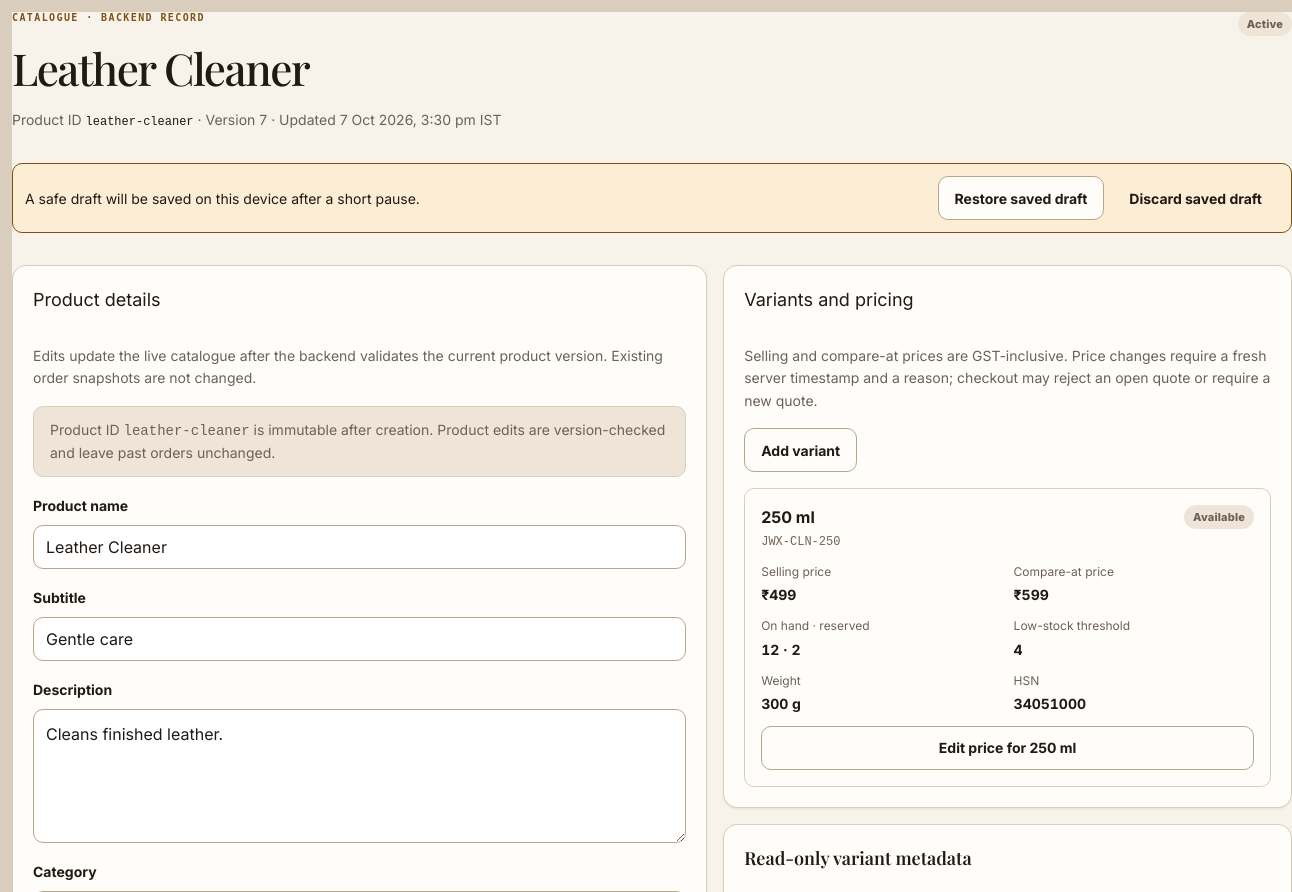
Scenario: ProductEditor › does not expose a price write until the authoritative variant timestamp is available
The width and height of the screenshot is (1292, 892).
Click the button "Edit price for 250 ml" at (1008, 748), box left=761, top=726, right=1254, bottom=770
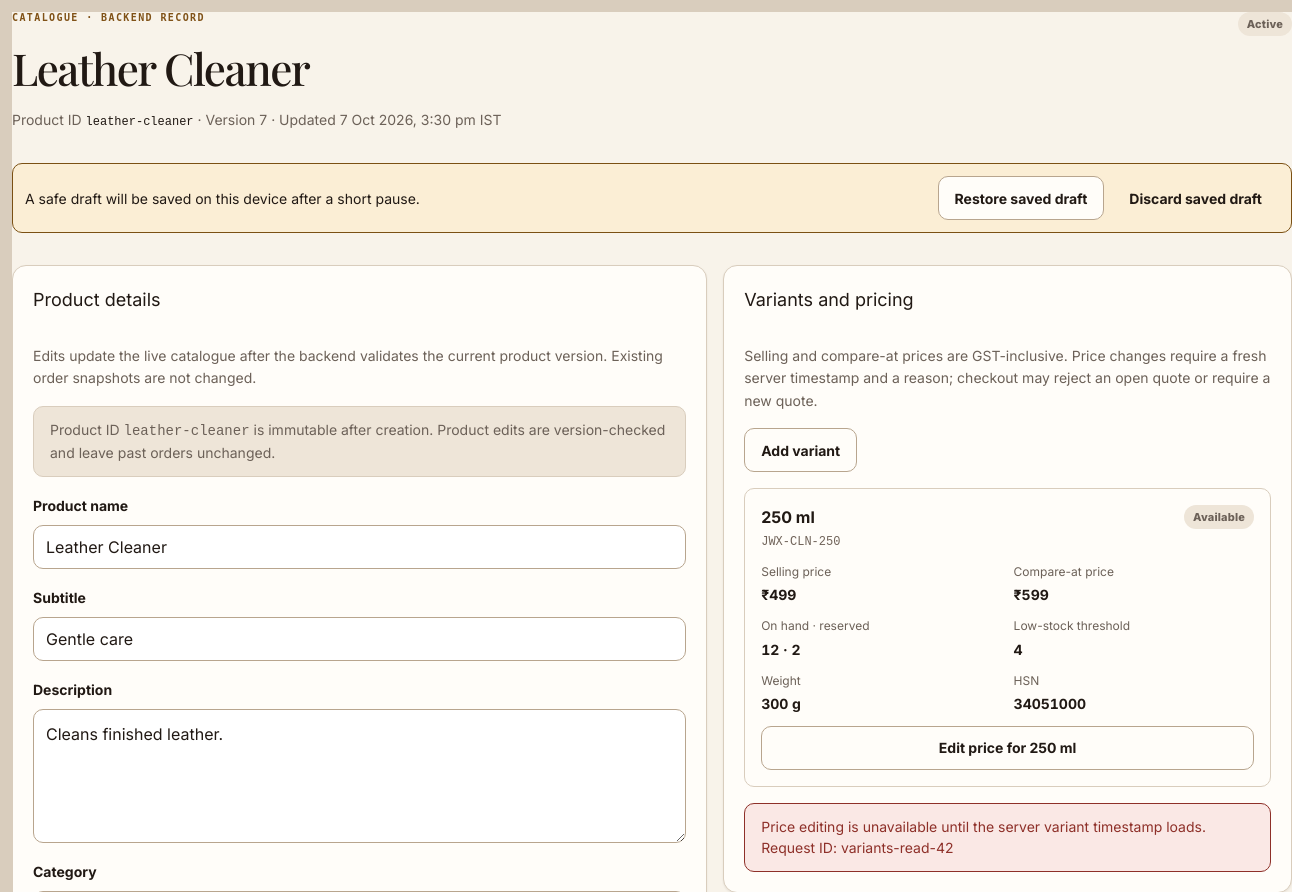
Expected: the text "variants-read-42" is shown, left=761, top=818, right=1206, bottom=856
